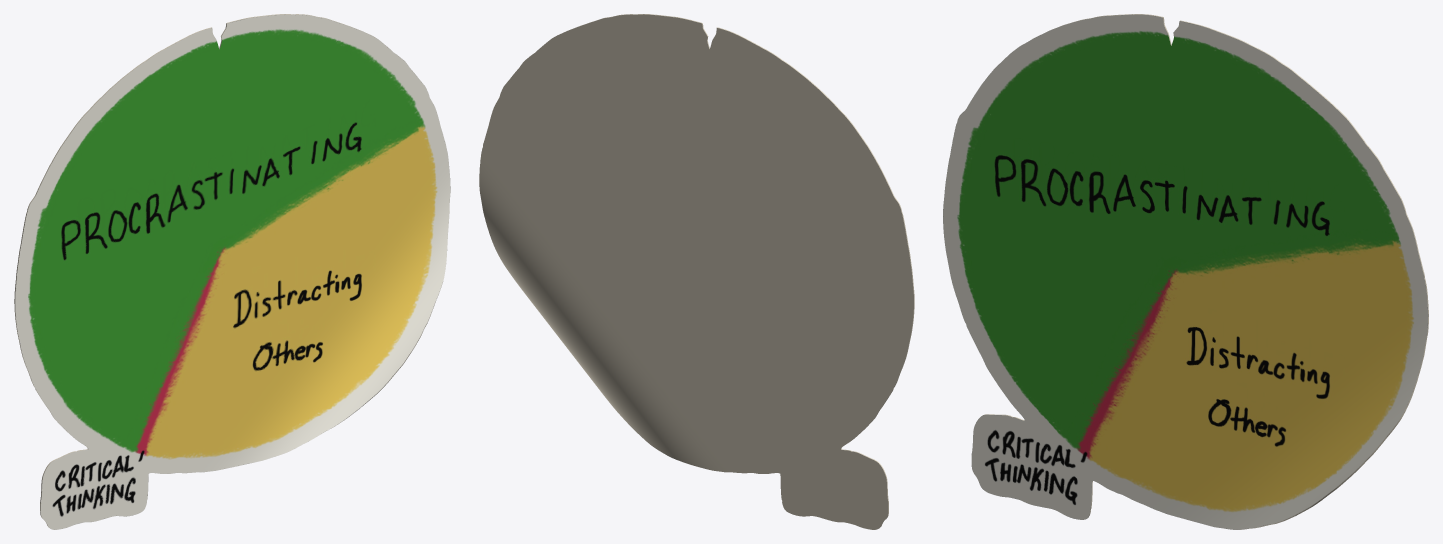
File: old-20-procrastination-chart.glb
The picture shows the model from 3 angles, left to right: view 1: azimuth 30°, elevation 25°; view 2: azimuth 150°, elevation 25°; view 3: azimuth 330°, elevation 25°; orthographic projection. The views are drawn at different scales.
Visible parts, largest first — view 1: old-20-procrastination-chart / thin printed sticker; view 2: old-20-procrastination-chart / thin printed sticker; view 3: old-20-procrastination-chart / thin printed sticker.
Boxes of the visible parts, <box> form: old-20-procrastination-chart / thin printed sticker: <box>14,14,450,529</box>; old-20-procrastination-chart / thin printed sticker: <box>479,14,914,529</box>; old-20-procrastination-chart / thin printed sticker: <box>943,14,1428,529</box>.
Size of the model in its own units: 2.27 by 2.34 by 0.1644.
Materials: 2 (1 with a texture image).
